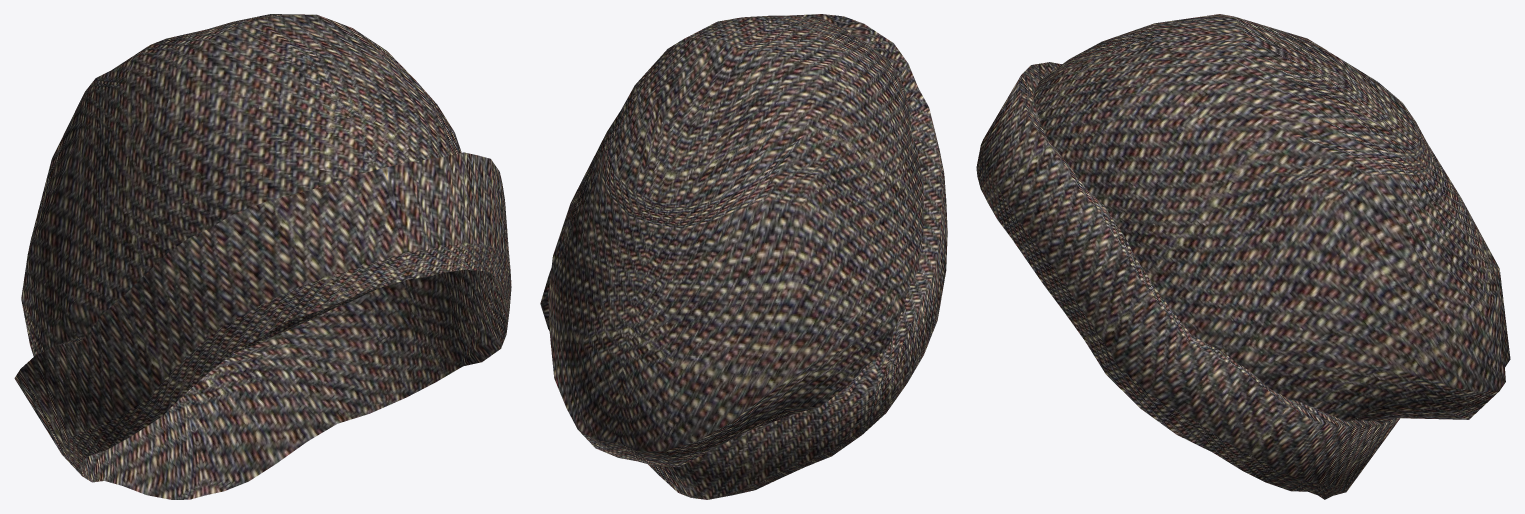
File: elvs-slouchy-beanie1.glb
3 views of the same model, side by side, from view 1: azimuth 30°, elevation 25°; view 2: azimuth 150°, elevation 25°; view 3: azimuth 270°, elevation 25° (orthographic). The views are drawn at different scales.
Visible parts, largest first — view 1: Human.elvs_slouchy_beanie1; view 2: Human.elvs_slouchy_beanie1; view 3: Human.elvs_slouchy_beanie1.
Boxes of the visible parts, left/top/right/bottom form: Human.elvs_slouchy_beanie1: left=14, top=14, right=511, bottom=499; Human.elvs_slouchy_beanie1: left=540, top=14, right=947, bottom=499; Human.elvs_slouchy_beanie1: left=976, top=14, right=1510, bottom=499.
Size of the model in its own units: 0.2096 by 0.2405 by 0.2565.
1 material, 1 textured.
